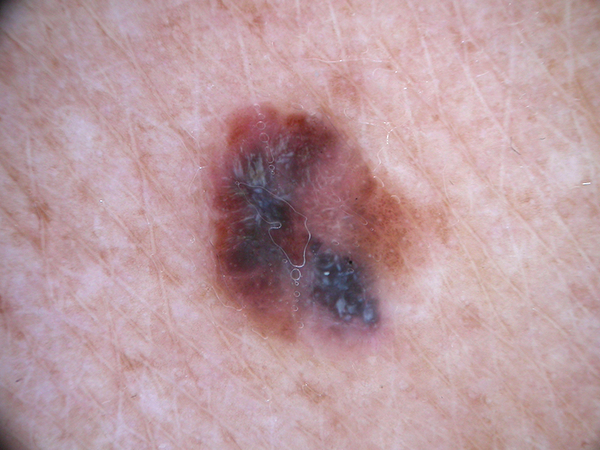Detected Lesion: (197, 98, 407, 344)
